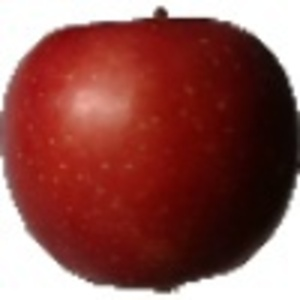maçã braeburn: (1, 14, 300, 292)
